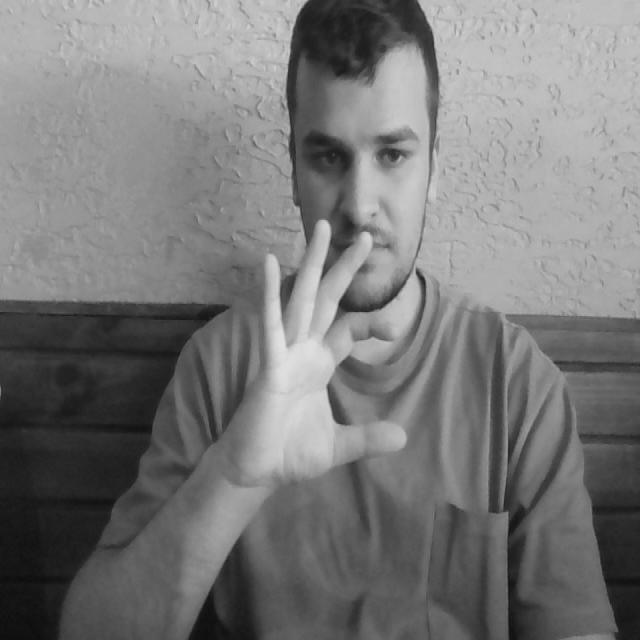Tuvalet: (213, 211, 414, 496)
